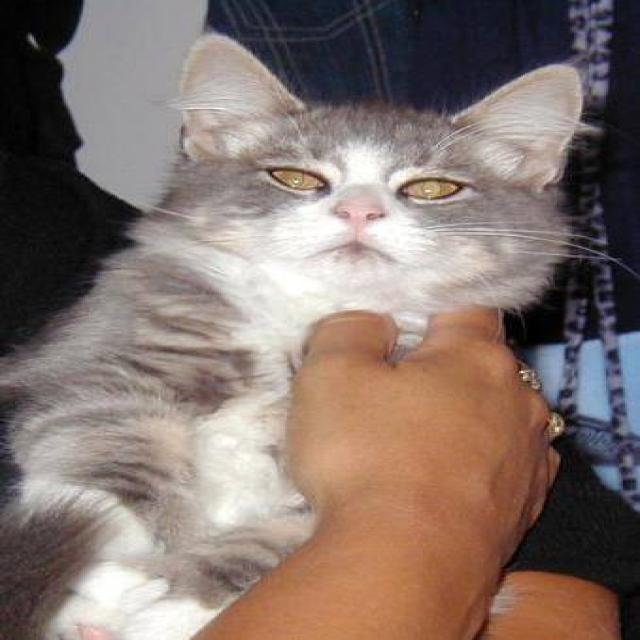cat: (0, 29, 636, 638)
